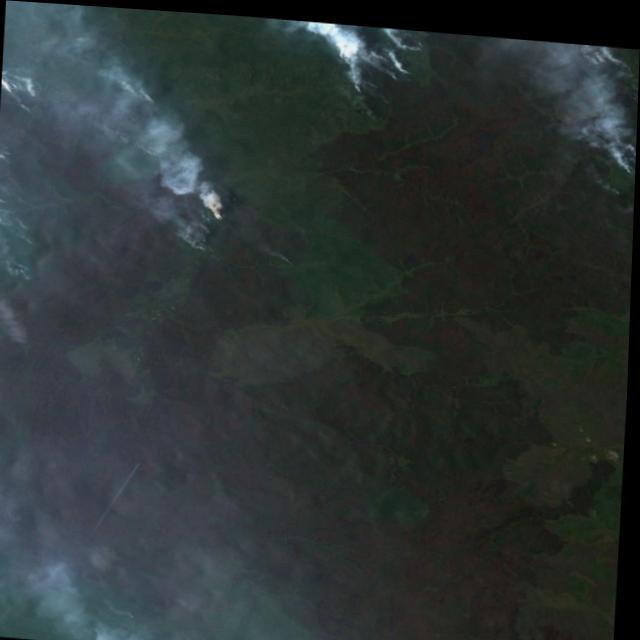fire: (0, 61, 245, 236), (318, 17, 434, 133), (587, 35, 640, 169)
